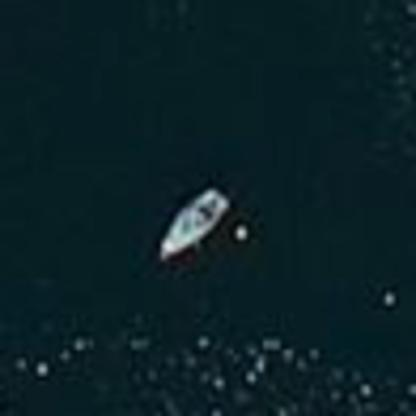ship: (148, 182, 238, 269)
